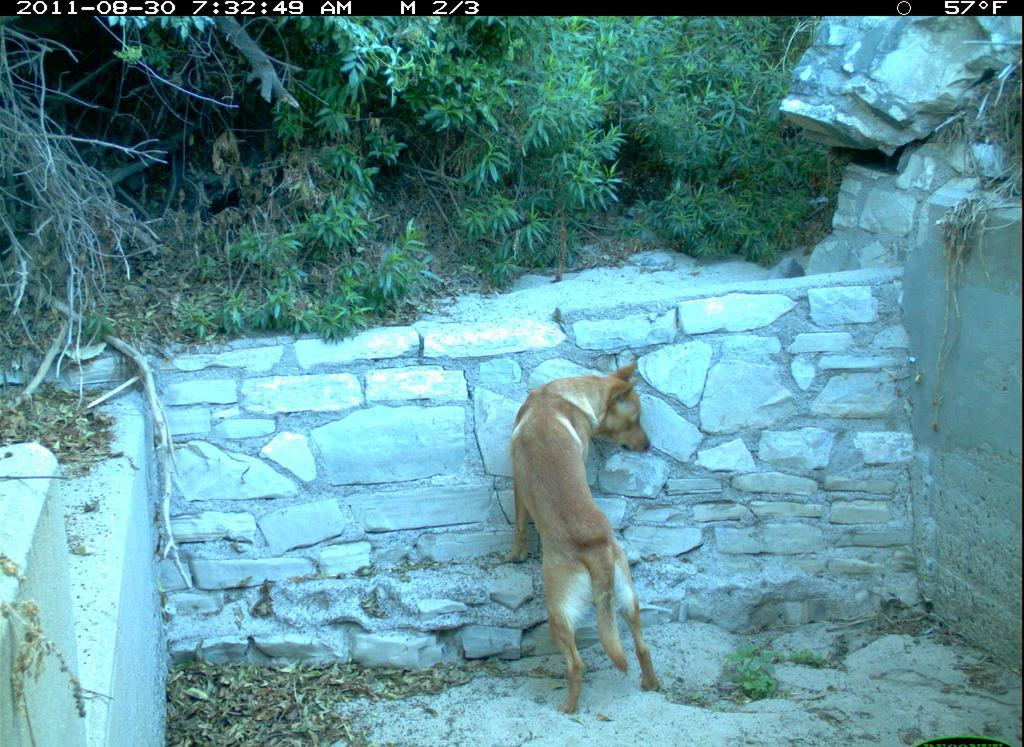dog: (495, 356, 698, 716)
